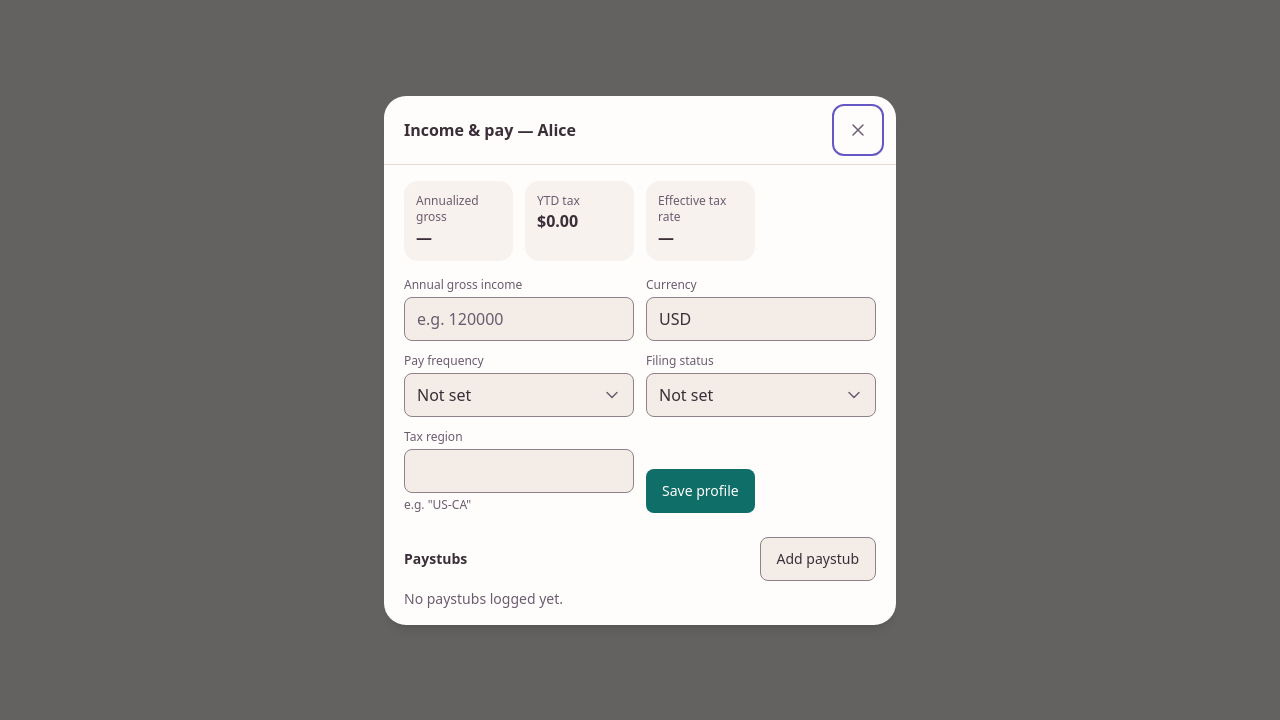
it: <IncomeDialog /> paystubs › warns in the editor when the lines do not add up to the header
Step 1. Click the button with test id "add-paystub" → x=818, y=558, box [760, 536, 876, 580]
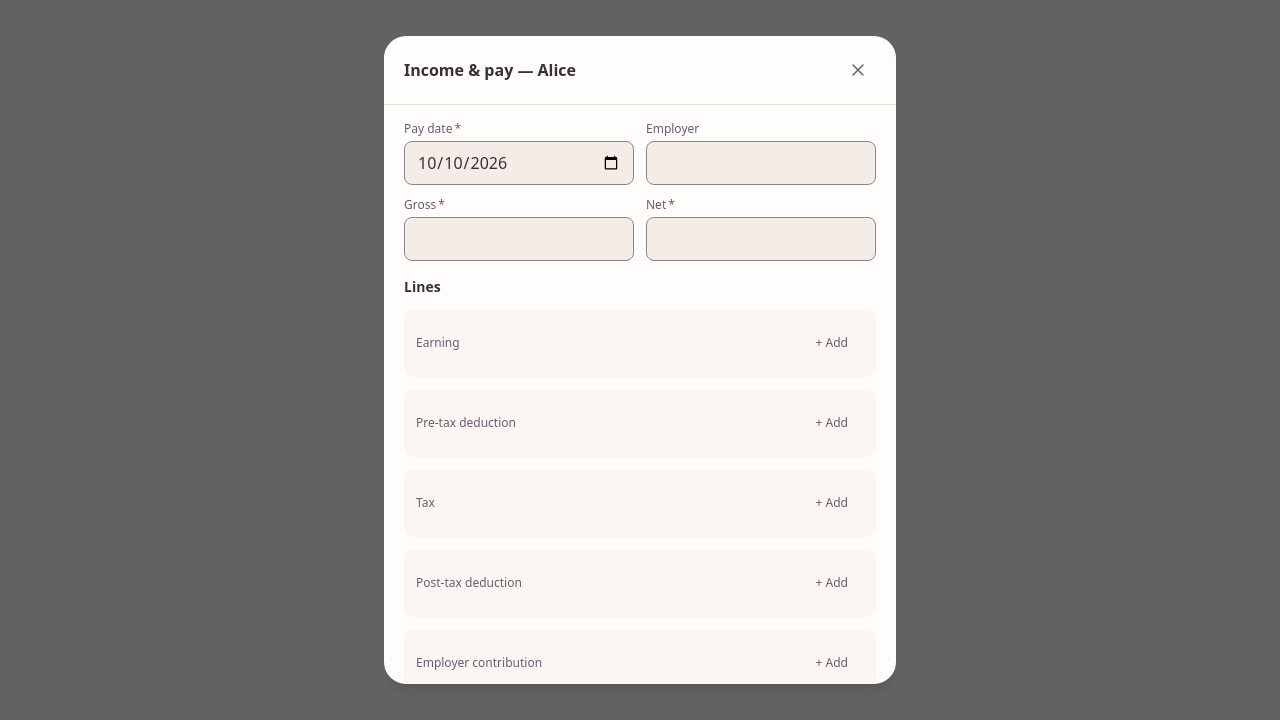
Step 2. Type "1000" into the field with test id "paystub-gross" → x=519, y=239, box [404, 217, 634, 261]
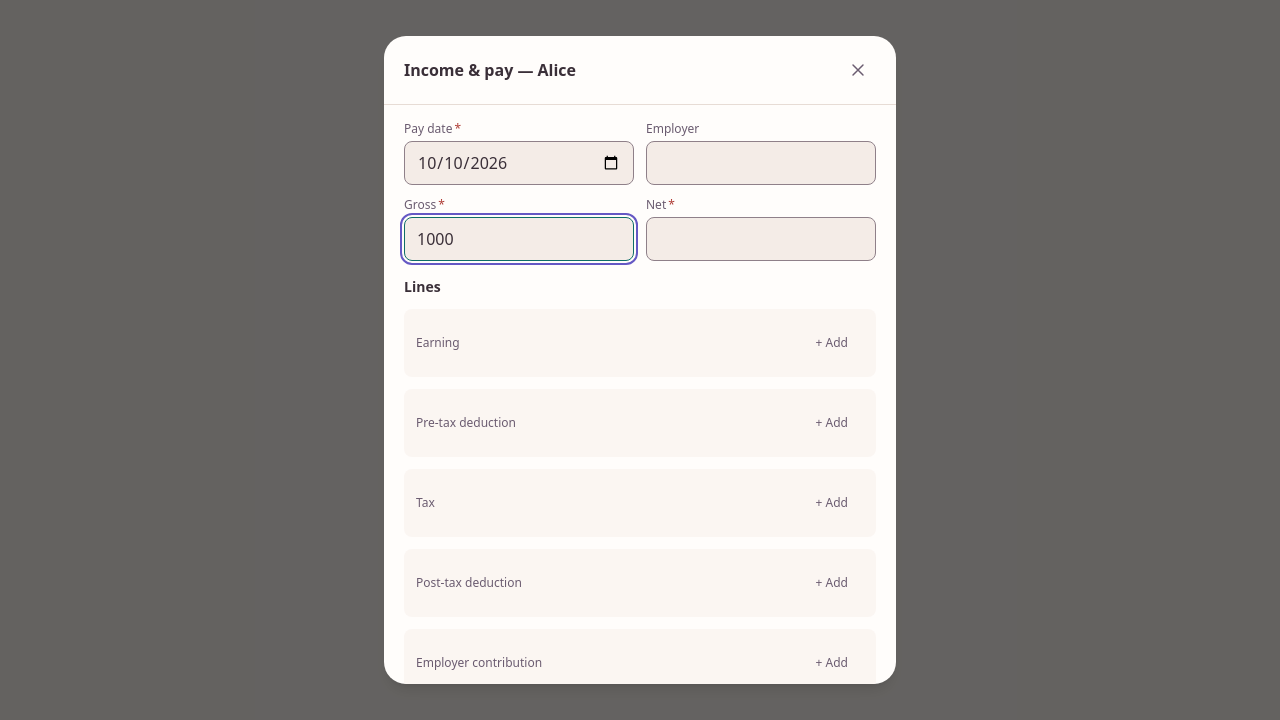
Step 3. Type "1000" into the field with test id "paystub-net" → x=761, y=239, box [646, 217, 876, 261]
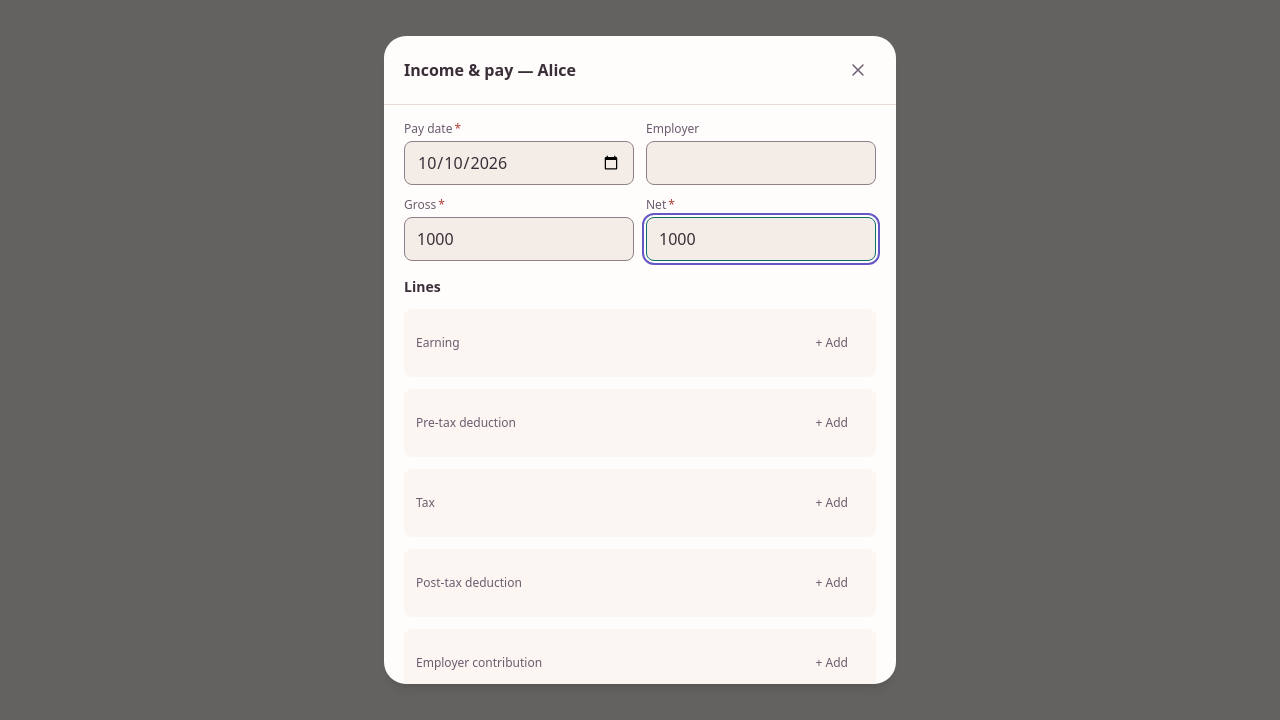
Step 4. Click the button with test id "paystub-add-line-earning" → x=832, y=343, box [800, 321, 864, 365]
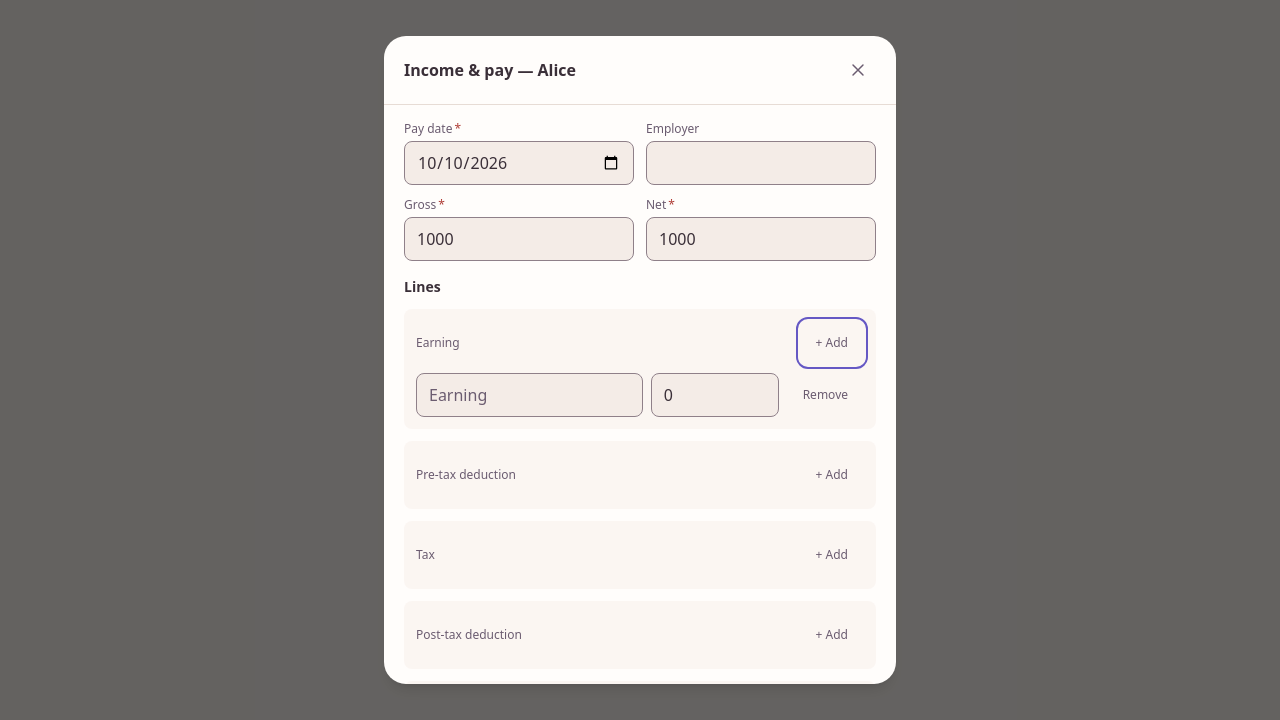
Step 5. Replace the text in the field named "Earning amount" with "900" → x=715, y=395, box [651, 373, 779, 417]
(page scrolled)
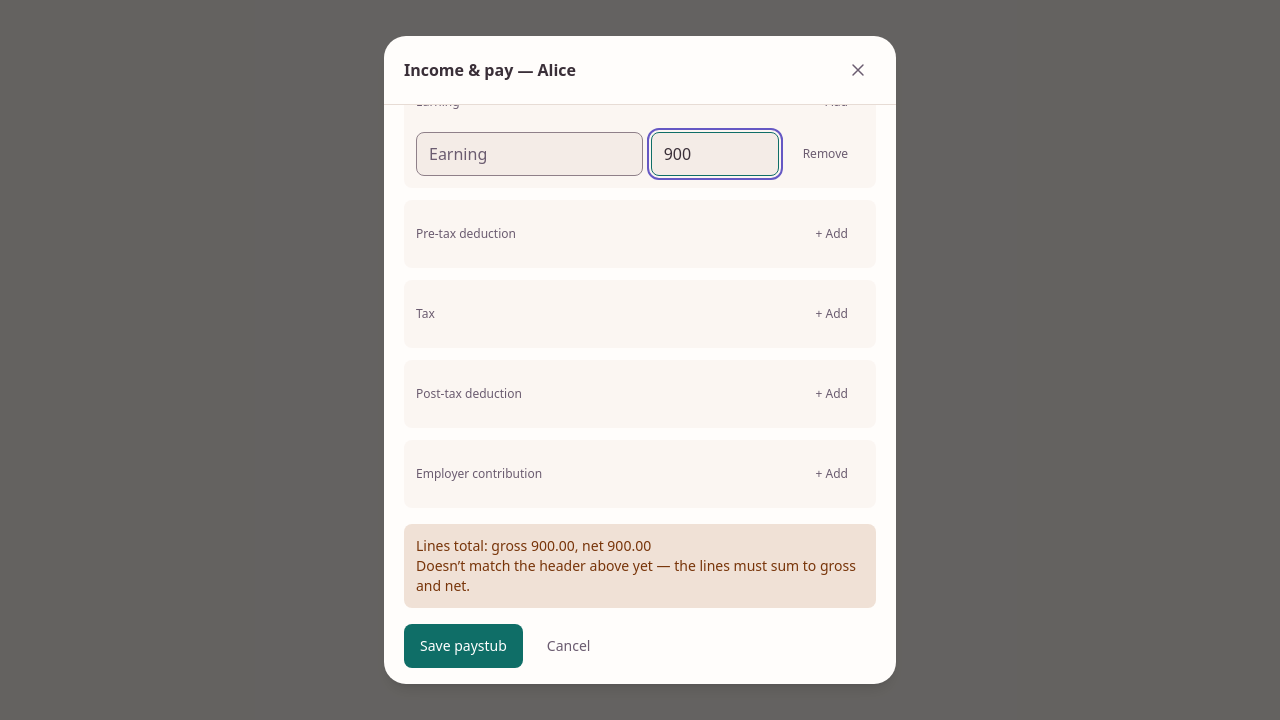
Expected: the text with test id "paystub-mismatch" is shown, [416, 556, 864, 596]
